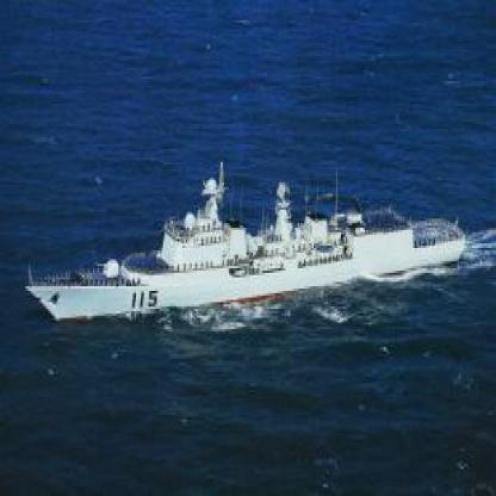Ship: (26, 204, 482, 325)
